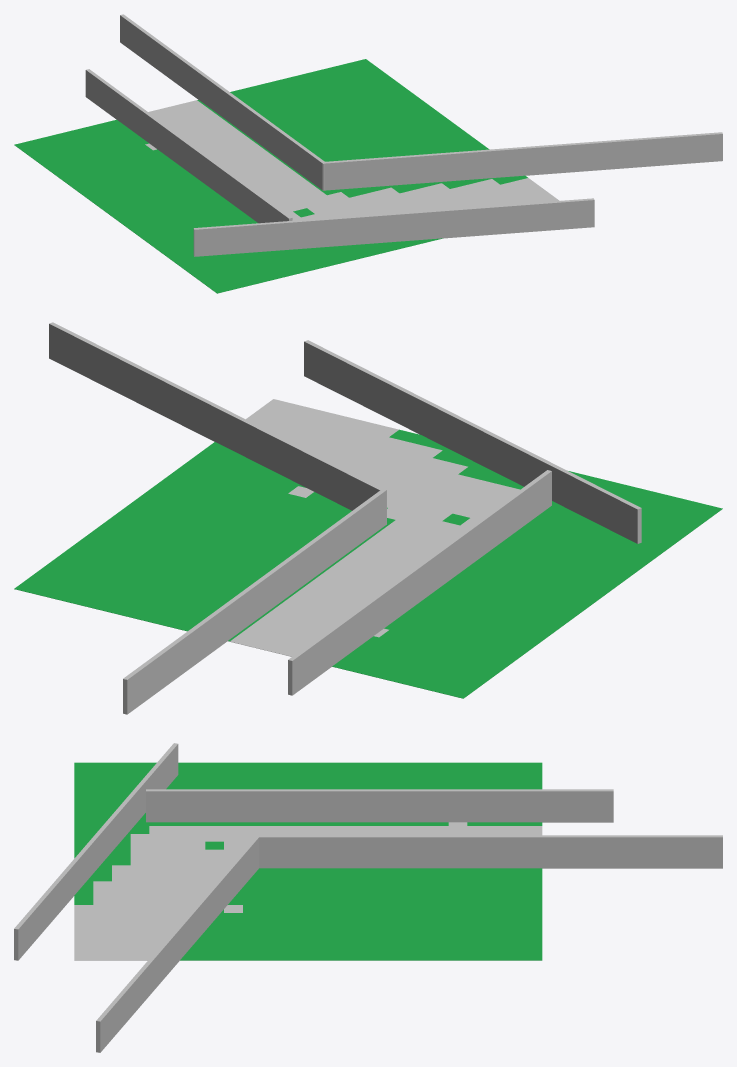
The model's file is NavStage.FBX.
The picture shows the model from 3 angles, top to bottom: view 1: azimuth 30°, elevation 25°; view 2: azimuth 150°, elevation 25°; view 3: azimuth 270°, elevation 25°; orthographic projection. The views are drawn at different scales.
Visible parts, largest first — view 1: Box001, Box004, Box005, Box003, Box002; view 2: Box001, Box004, Box005, Box003, Box002; view 3: Box001, Box002, Box003, Box005, Box004.
Part boxes in pixels (x1,y1,x2,y2): Box001: (14,59,559,293); Box004: (193,198,594,256); Box005: (322,132,722,190); Box003: (120,14,325,190); Box002: (85,69,292,223); Box001: (14,399,722,698); Box004: (304,340,641,543); Box005: (49,322,386,524); Box003: (123,490,386,714); Box002: (288,470,551,695); Box001: (74,762,542,960); Box002: (146,789,613,822); Box003: (256,835,722,868); Box005: (96,835,259,1052); Box004: (14,743,178,960).
Size of the model in its own units: 7454 by 7701 by 376.
